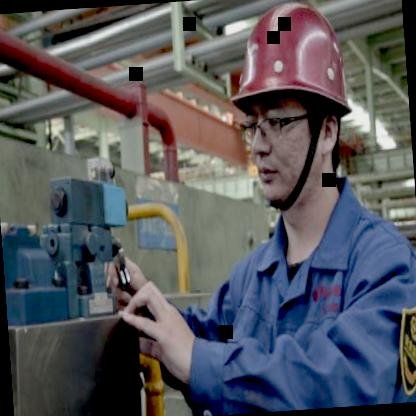helmet: (211, 0, 372, 226)
